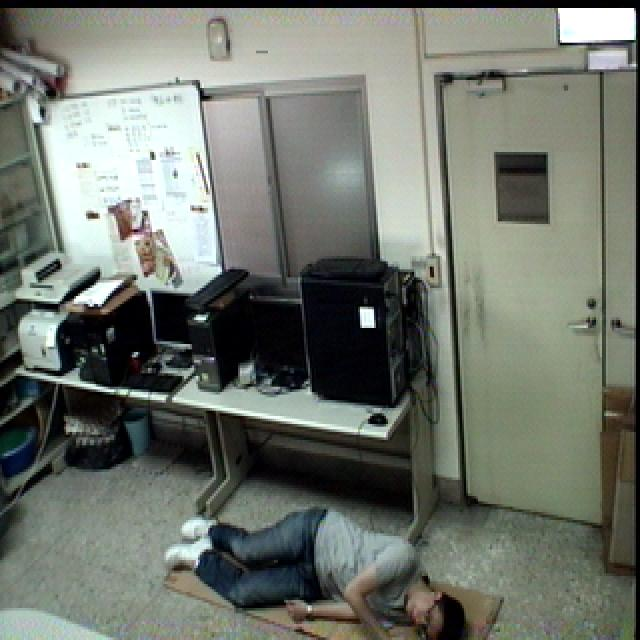lie: (156, 505, 487, 640)
